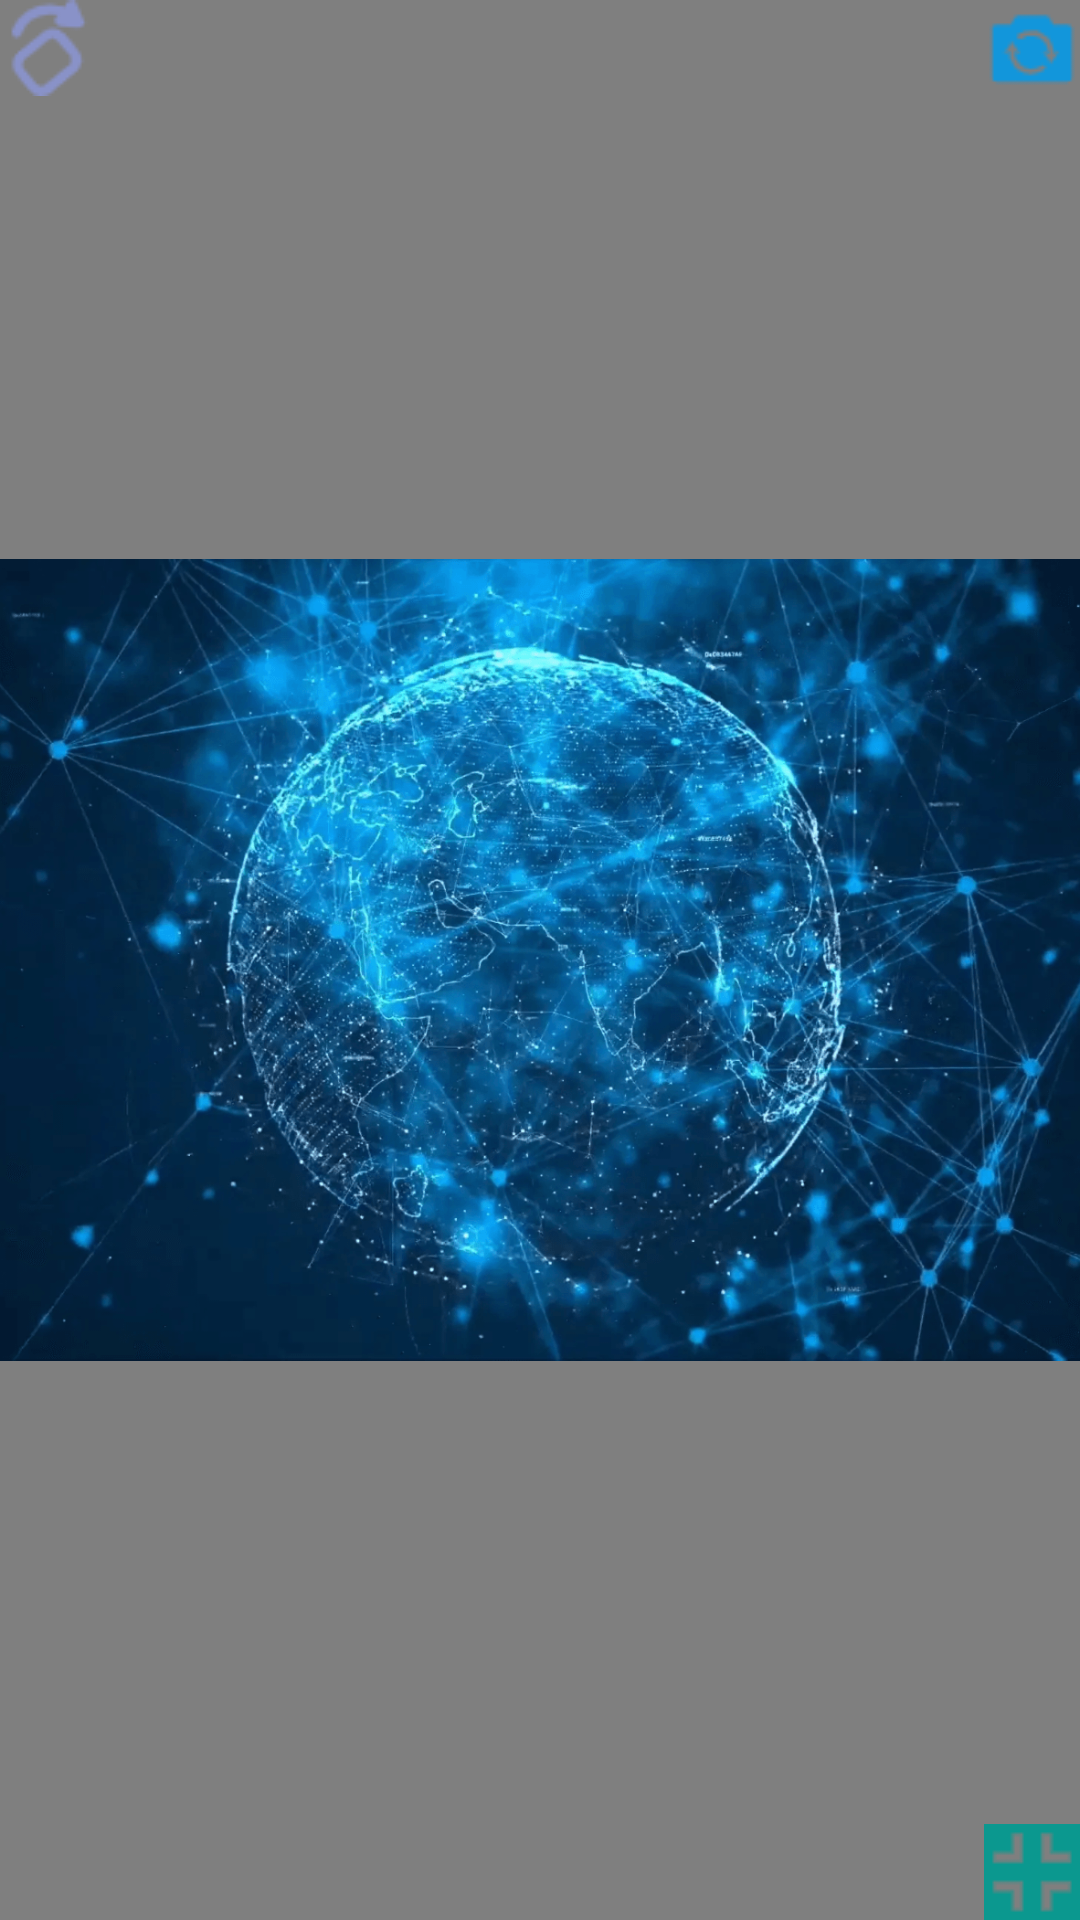

Screen size 1080 x 1920. Icon name, then its box in pixels as BBox(x1, y1, x2, y2):
camera: BBox(991, 14, 1073, 83)
outfull: BBox(984, 1824, 1080, 1920)
rotation: BBox(12, 0, 85, 96)
